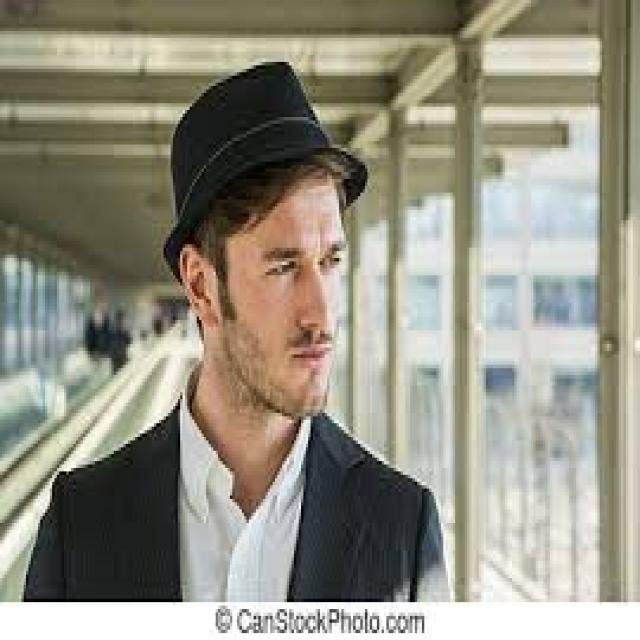hat: (156, 58, 368, 420)
